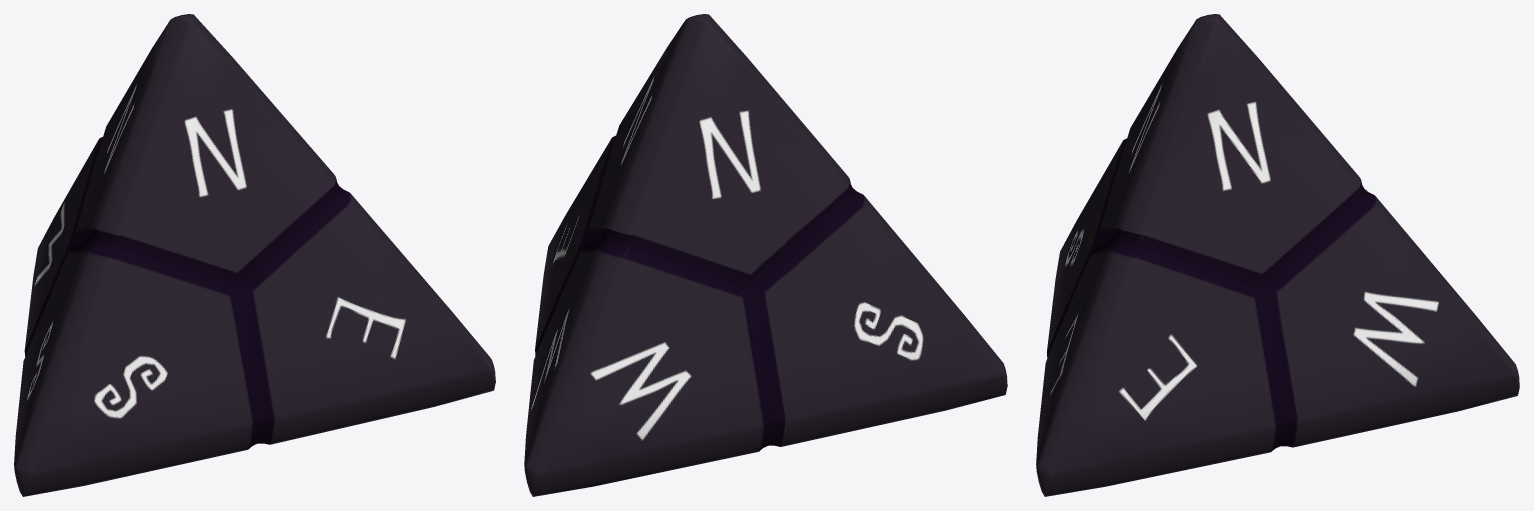
File: Dice-D4.fbx
3 renders of one model, left to right at view 1: azimuth 30°, elevation 25°; view 2: azimuth 150°, elevation 25°; view 3: azimuth 270°, elevation 25°, orthographic.
Visible parts, largest first — view 1: D4; view 2: D4; view 3: D4.
Boxes of the visible parts, box(x1,y1,x2,y2) form: D4: box(14, 14, 495, 496); D4: box(524, 14, 1007, 496); D4: box(1036, 14, 1519, 496).
Bounding box in the file's own units: 118 × 91.26 × 106.
1 material, 1 textured.
